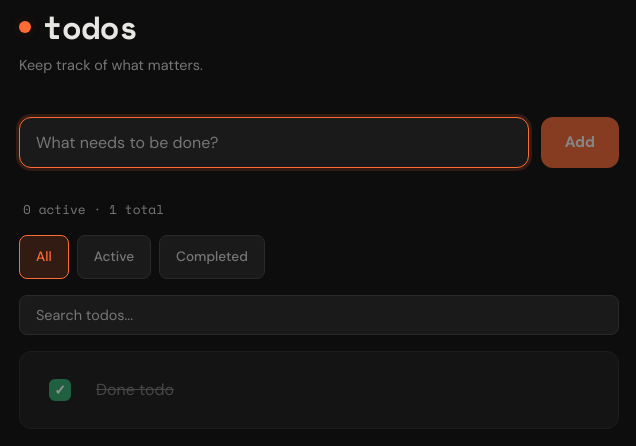
App › shows "No active todos" when active filter matches nothing
Check: the text "Done todo" is shown, box [96,379,174,400]
Step 1. Click the button "Active" → (114, 257), box [77,235,151,279]
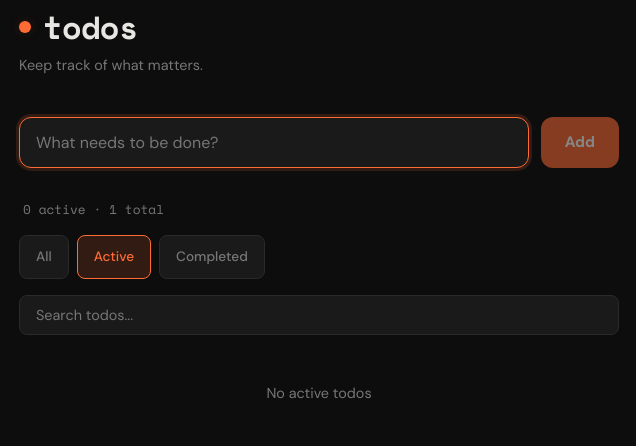
Check: the text "No active todos" is shown, box [266,384,372,402]
